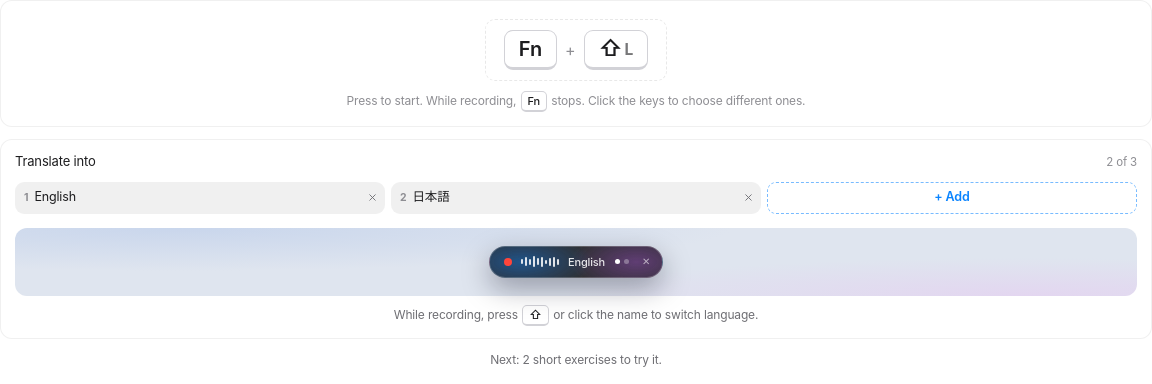
Translate languages and pill preview (plan tutorial-one-page) › explains switching with the Switch language key, or by clicking the name
The image size is (1152, 384).
expect the text with class "kbd-glyph" next to "While recording, press" reads "⇧": met, box [529,307,542,322]
Click the button "English" at (587, 262), box [564,254,610,270]
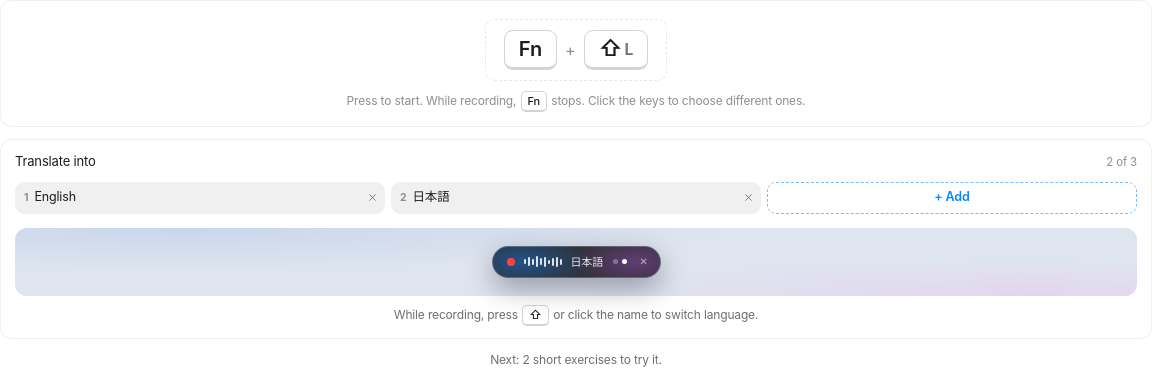
expect the button "日本語" is shown: met, box [566,254,608,270]
